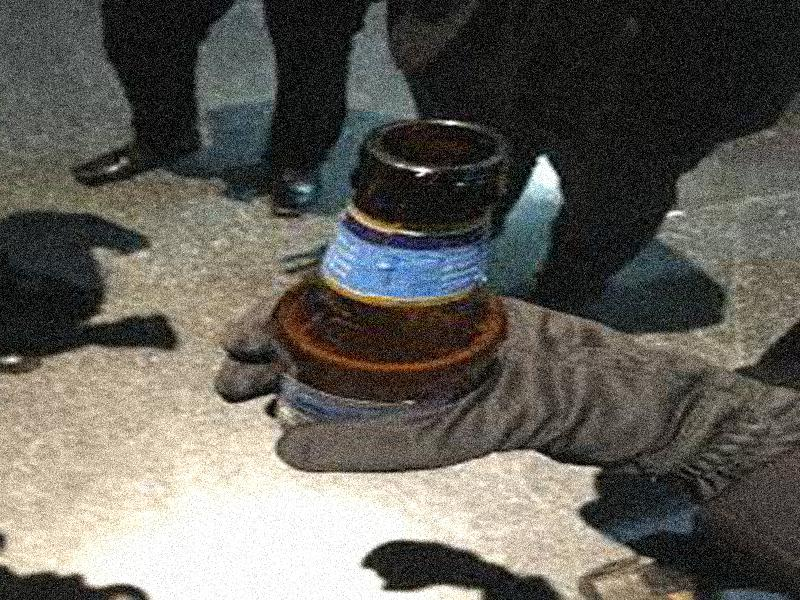Beer: (259, 118, 514, 452)
